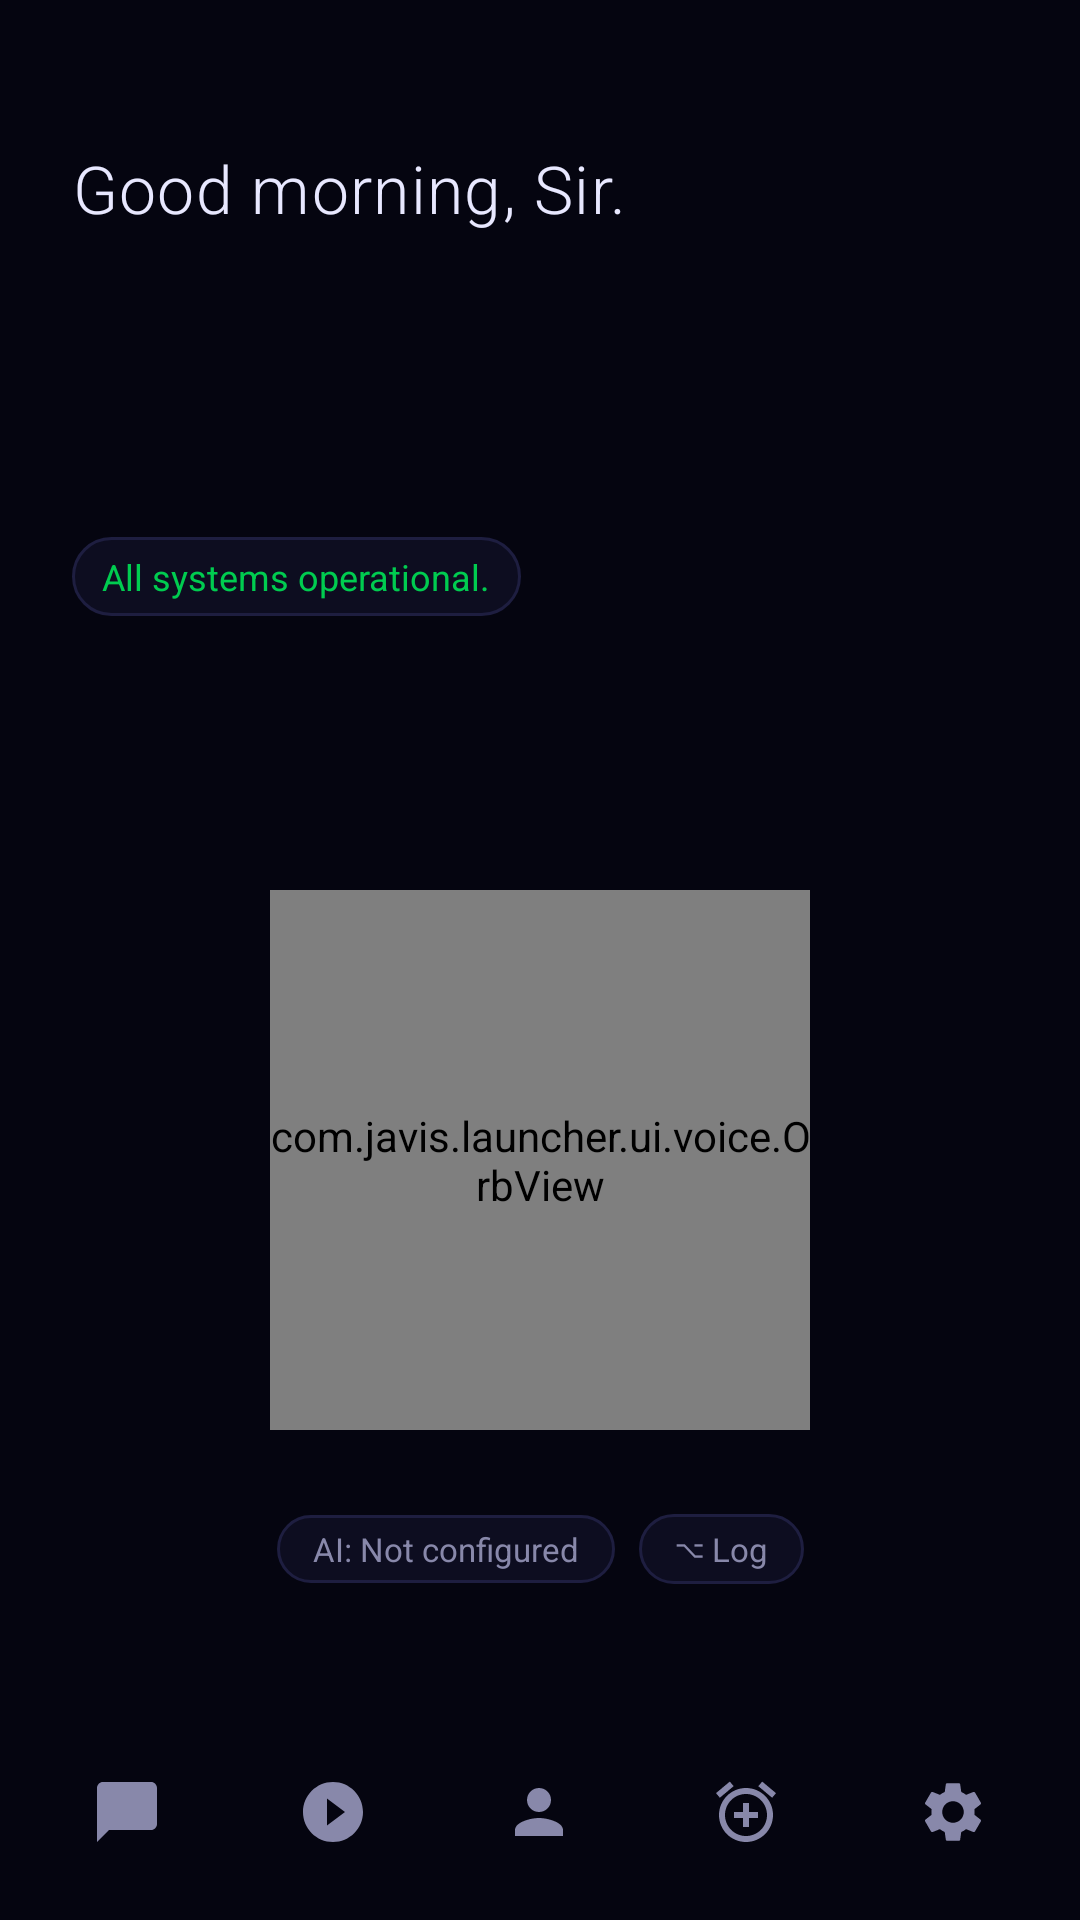

Locate icon controls on the screen. Image size 1080px×1920px, boxes as {"x1": x1, "y1": y1, "x2": x2, "y2": y2}.
Alarms: {"x1": 716, "y1": 1782, "x2": 776, "y2": 1842}
Chat: {"x1": 97, "y1": 1782, "x2": 157, "y2": 1842}
Contacts: {"x1": 515, "y1": 1788, "x2": 563, "y2": 1836}
Settings: {"x1": 925, "y1": 1783, "x2": 981, "y2": 1841}
